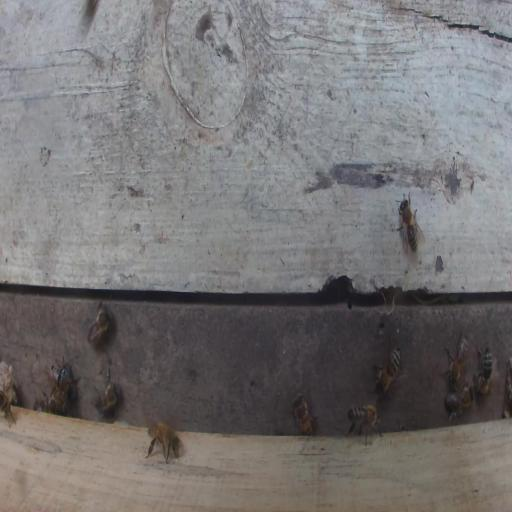nonpollenbee: (394, 188, 426, 257), (146, 421, 185, 464), (347, 402, 382, 446), (373, 342, 402, 395), (442, 330, 469, 385), (48, 362, 75, 411), (444, 383, 474, 424), (95, 364, 119, 415), (291, 388, 315, 438), (473, 343, 493, 396), (87, 302, 112, 343), (0, 390, 17, 427), (47, 411, 48, 412)
